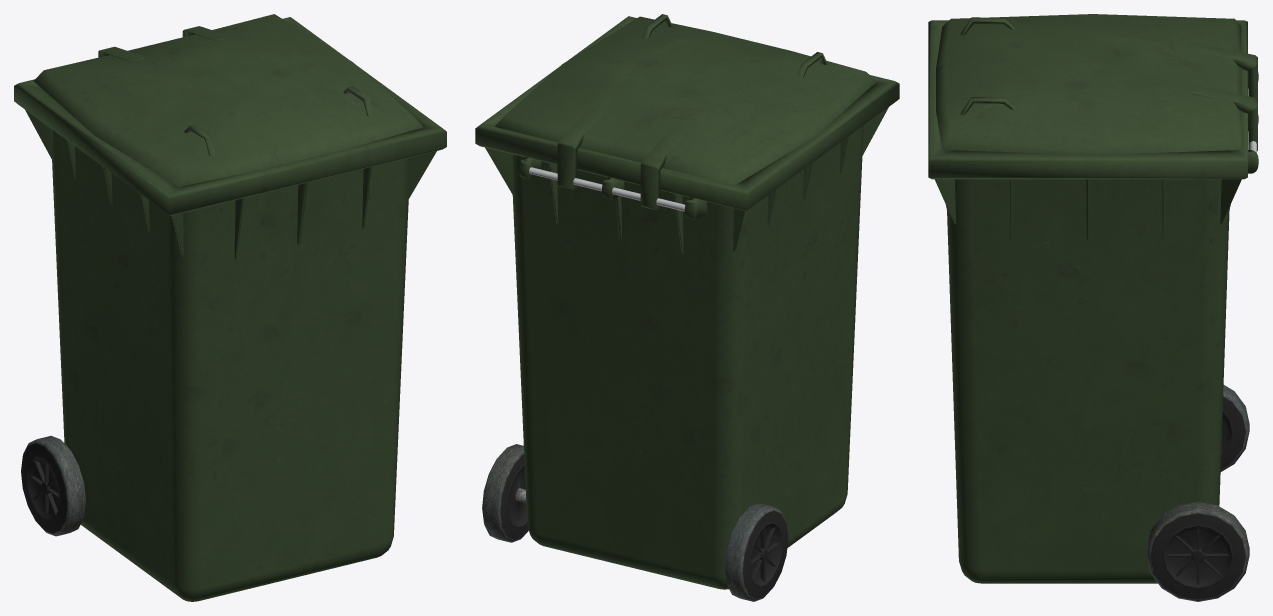
Rendered from muelltonnen.fbx.
The picture shows the model from 3 angles, left to right: view 1: azimuth 30°, elevation 25°; view 2: azimuth 150°, elevation 25°; view 3: azimuth 270°, elevation 25°; orthographic projection. The views are drawn at different scales.
Visible parts, largest first — view 1: muelltonne_01a, muelltonne_deckel_01a; view 2: muelltonne_01a, muelltonne_deckel_01a; view 3: muelltonne_01a, muelltonne_deckel_01a.
Boxes of the visible parts, bbox=[...] form: muelltonne_01a: bbox=[14, 17, 446, 601]; muelltonne_deckel_01a: bbox=[34, 14, 423, 186]; muelltonne_01a: bbox=[475, 16, 899, 601]; muelltonne_deckel_01a: bbox=[495, 14, 876, 209]; muelltonne_01a: bbox=[928, 20, 1258, 601]; muelltonne_deckel_01a: bbox=[936, 14, 1257, 154].
Bounding box in the file's own units: 92 × 147 × 91.92.
Materials: 1 (1 with a texture image).
